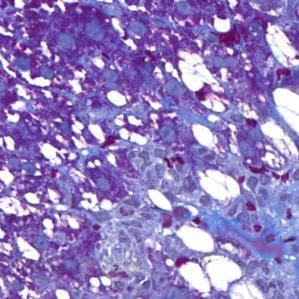ballooning: (174, 47, 232, 114), (172, 251, 243, 297)
